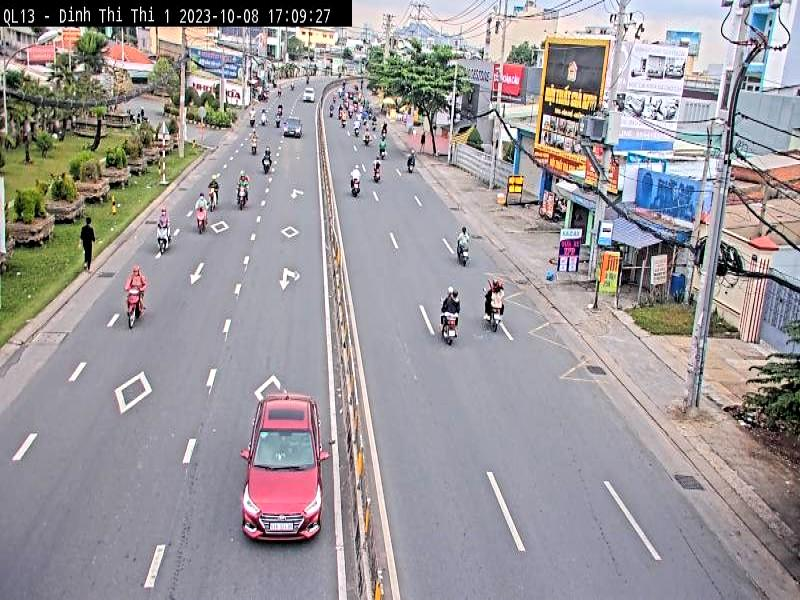car: (242, 390, 323, 545)
motorcycle: (123, 285, 143, 329)
